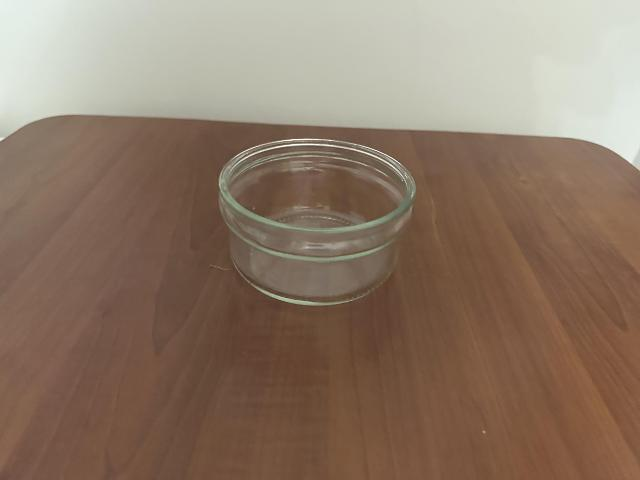Cam: (217, 133, 416, 303)
